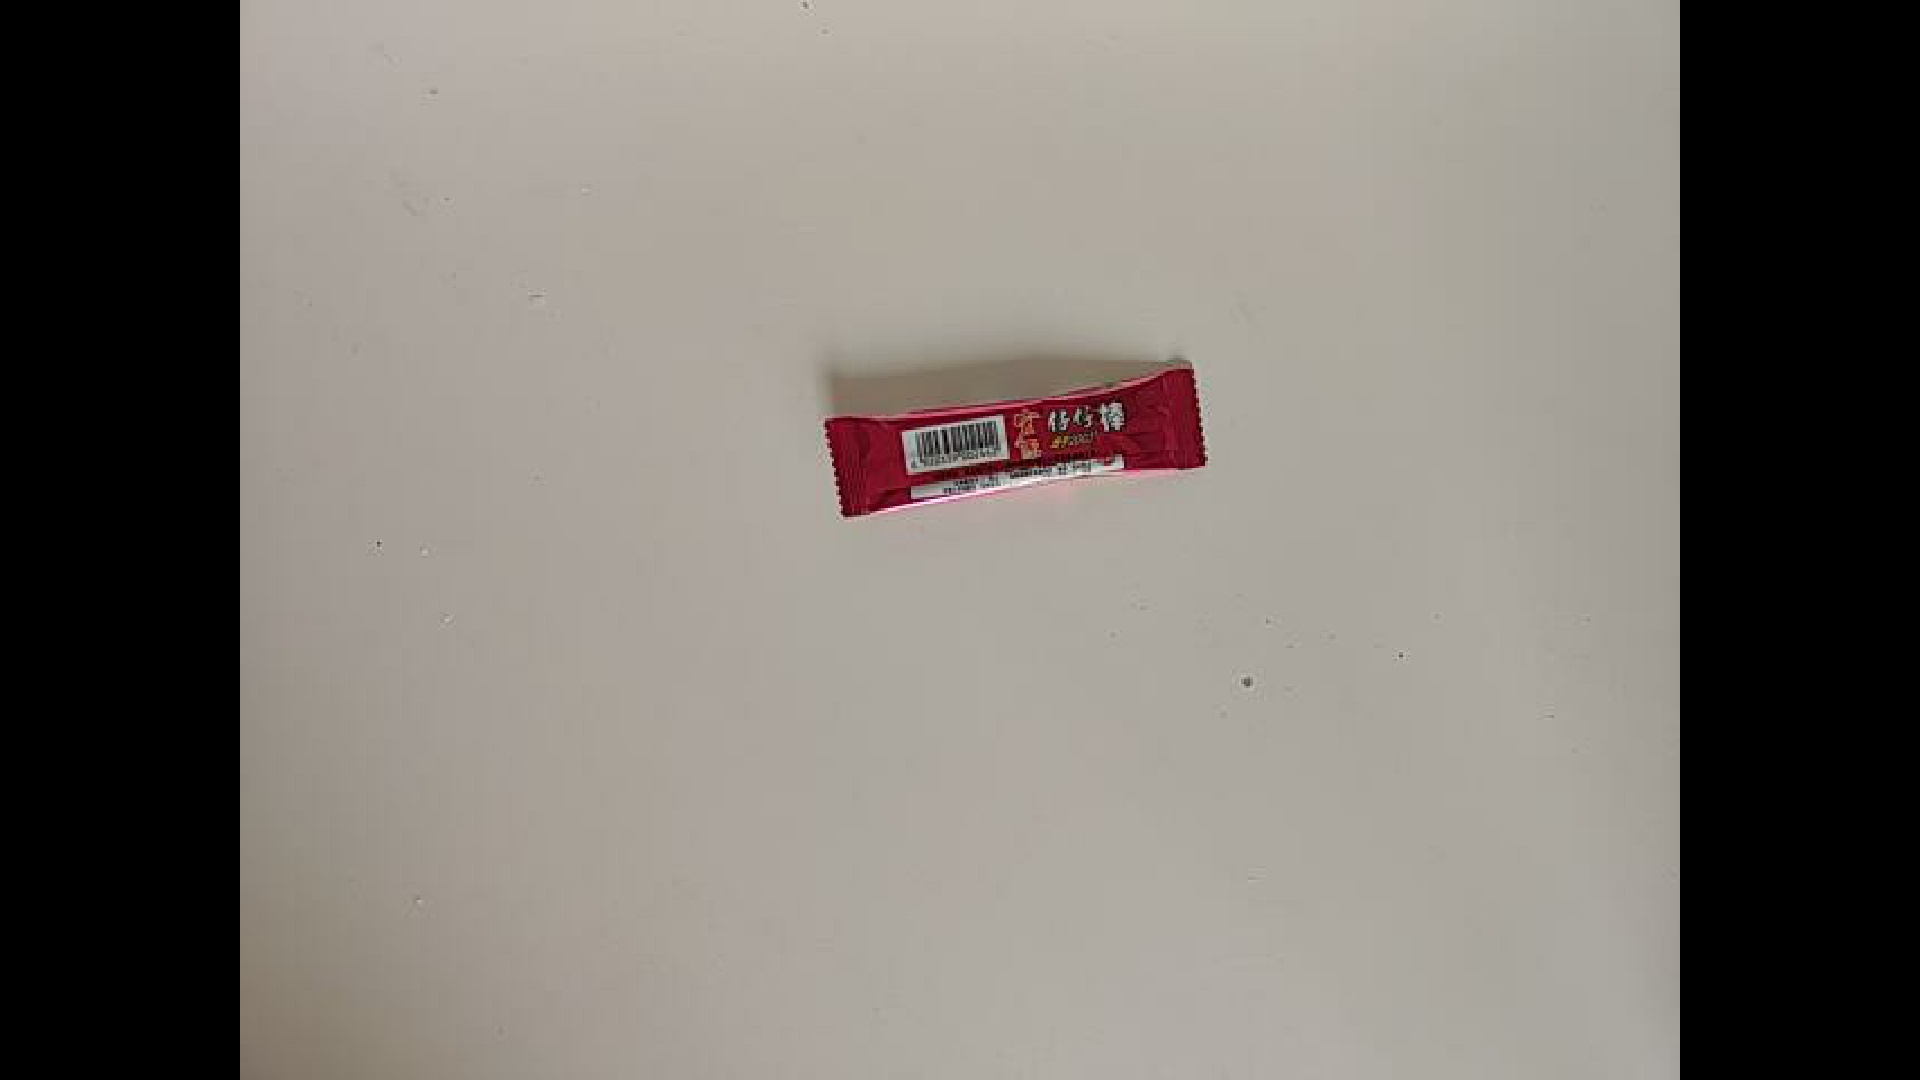sugar: (823, 388, 1222, 521)
